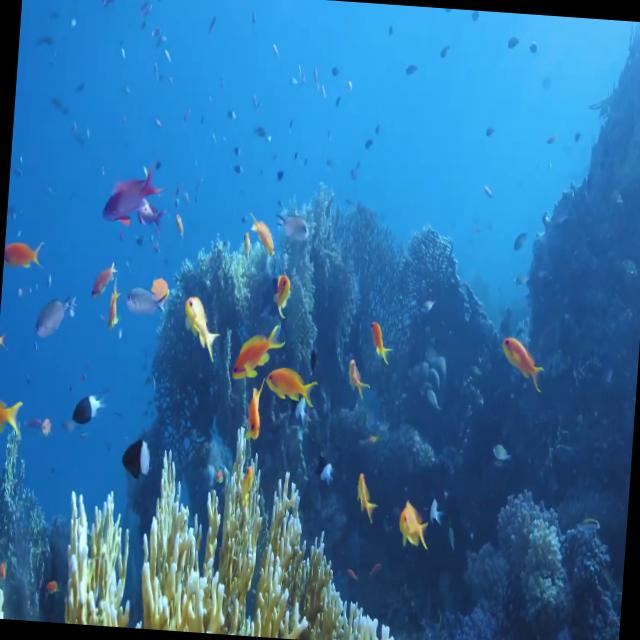fish: (94, 162, 160, 235), (180, 280, 232, 368), (226, 318, 286, 386), (262, 356, 324, 420), (30, 281, 85, 350), (500, 328, 550, 394), (114, 269, 170, 323), (389, 493, 432, 558), (2, 226, 50, 280), (66, 382, 112, 438), (242, 200, 282, 262), (112, 430, 156, 484), (266, 260, 298, 330), (364, 314, 398, 374), (349, 456, 381, 519), (242, 374, 270, 446), (342, 344, 372, 408), (89, 254, 122, 304), (0, 384, 25, 450), (308, 448, 342, 491), (26, 406, 58, 444), (146, 271, 174, 307), (489, 434, 512, 466), (170, 208, 188, 243)
